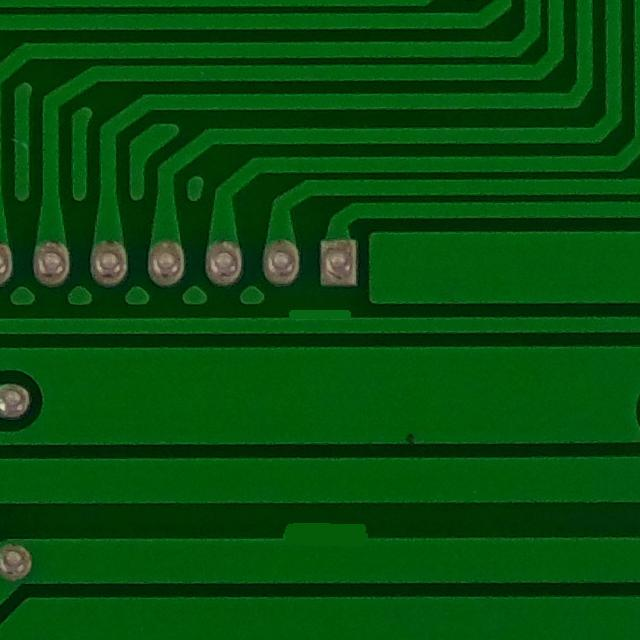spur: (276, 301, 364, 340)
